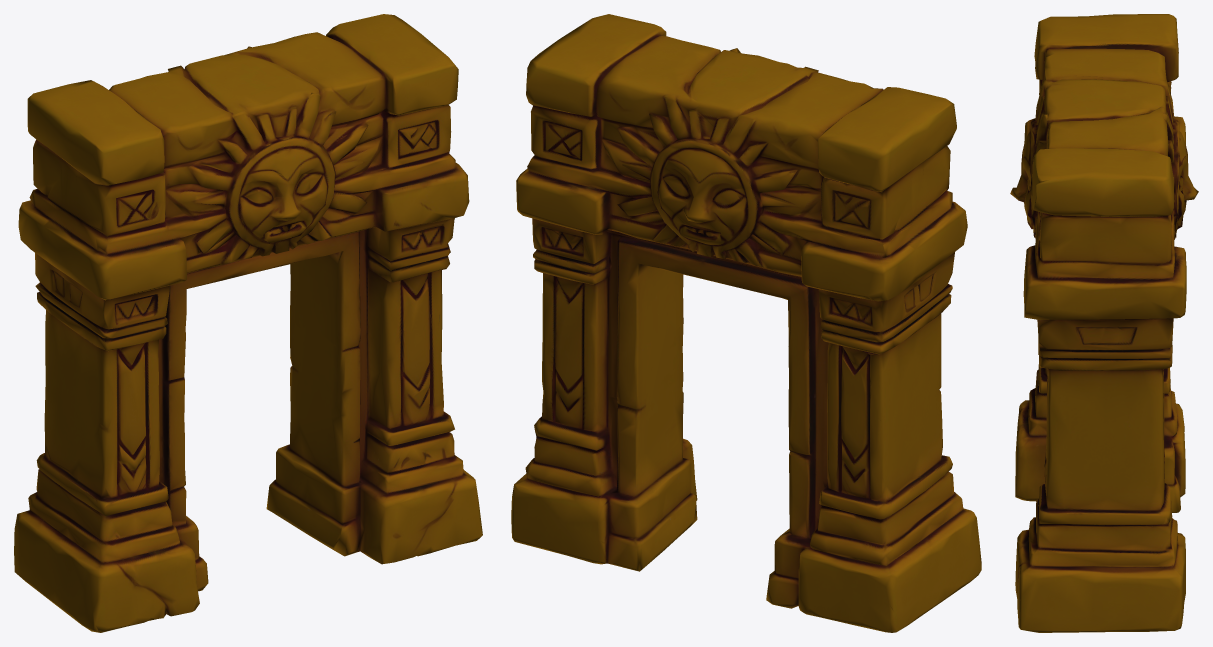
Rendered from gold_gate.glb.
3 views of the same model, side by side, from view 1: azimuth 30°, elevation 25°; view 2: azimuth 150°, elevation 25°; view 3: azimuth 270°, elevation 25° (orthographic). The views are drawn at different scales.
Visible parts, largest first — view 1: tripo_mesh_f8f55ecc-2f03-4272-b8cc-555ed63abab4; view 2: tripo_mesh_f8f55ecc-2f03-4272-b8cc-555ed63abab4; view 3: tripo_mesh_f8f55ecc-2f03-4272-b8cc-555ed63abab4.
Boxes of the visible parts, x1=… form: tripo_mesh_f8f55ecc-2f03-4272-b8cc-555ed63abab4: x1=14, y1=14, x2=482, y2=632; tripo_mesh_f8f55ecc-2f03-4272-b8cc-555ed63abab4: x1=511, y1=14, x2=981, y2=632; tripo_mesh_f8f55ecc-2f03-4272-b8cc-555ed63abab4: x1=1010, y1=14, x2=1198, y2=632.
Bounding box in the file's own units: 0.852 × 1 × 0.379.
1 material, 1 textured.
